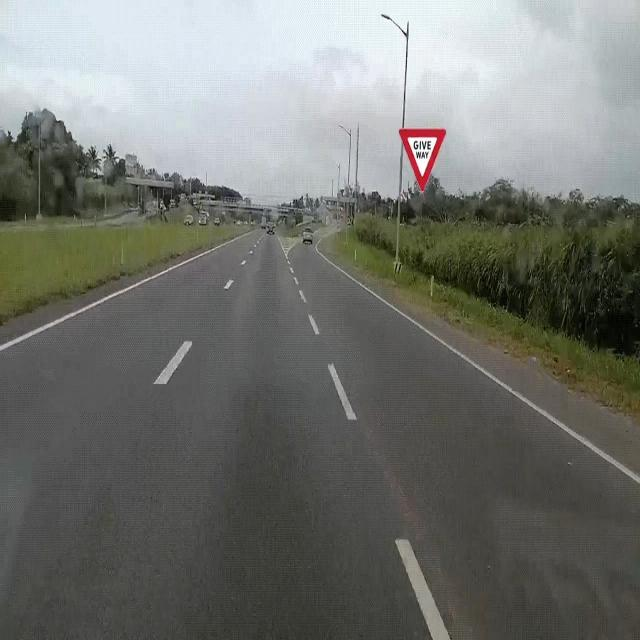Ceder-le-Passage: (393, 119, 451, 197)
